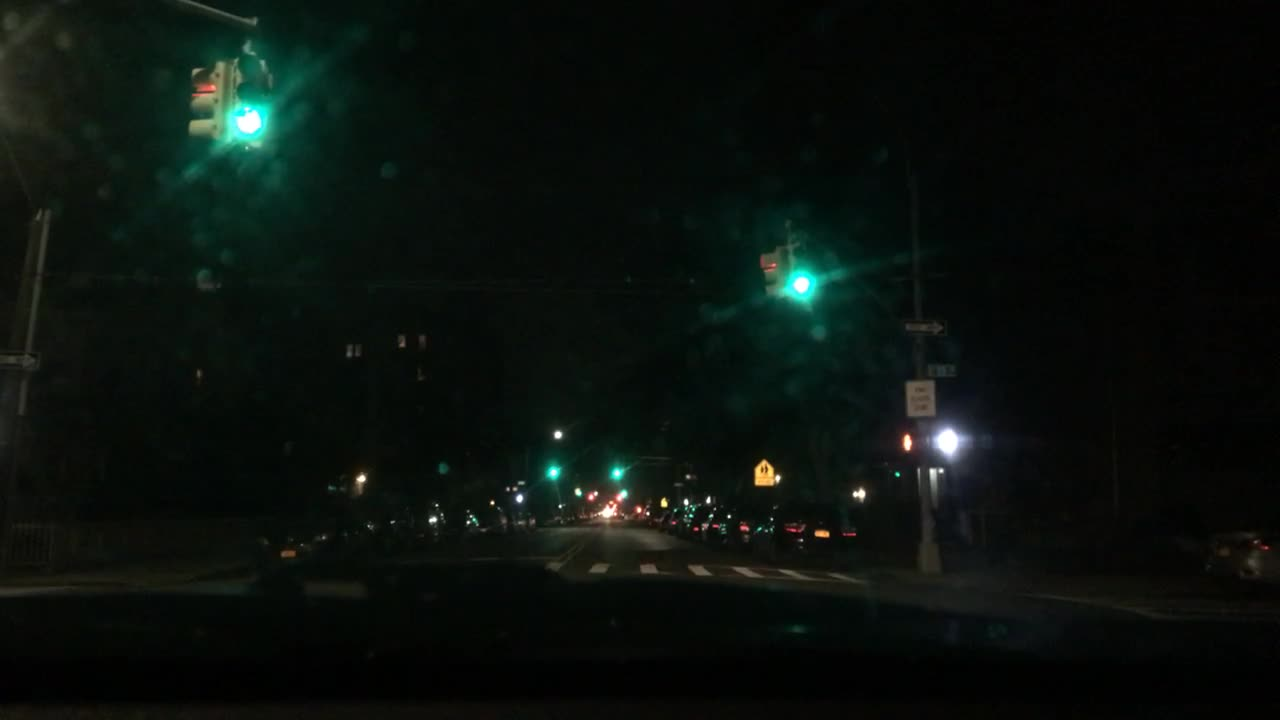car: (242, 506, 366, 568), (749, 495, 858, 565), (1197, 520, 1277, 587), (346, 494, 416, 550), (726, 501, 762, 554), (410, 490, 444, 546), (703, 506, 734, 551), (680, 504, 707, 542), (451, 506, 480, 541), (475, 504, 511, 532), (667, 504, 688, 534), (506, 506, 530, 531), (646, 504, 671, 526), (525, 507, 542, 534), (595, 504, 621, 520)
traffic light: (228, 56, 275, 147), (185, 62, 222, 142), (782, 240, 811, 300), (756, 245, 786, 303), (930, 421, 958, 456), (895, 429, 918, 455), (608, 461, 620, 477), (546, 464, 555, 480)
traffic sign: (904, 376, 933, 417), (0, 349, 39, 373), (904, 316, 944, 336), (751, 460, 776, 489), (928, 361, 958, 381)
